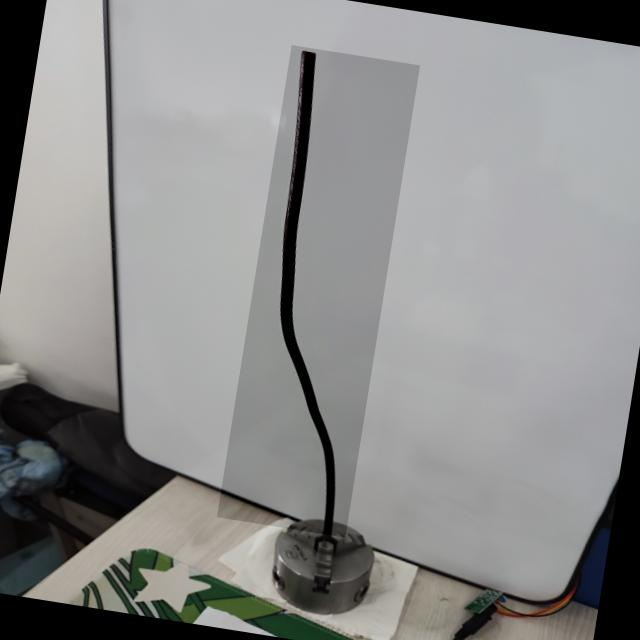plain round bar: (217, 45, 420, 538)
